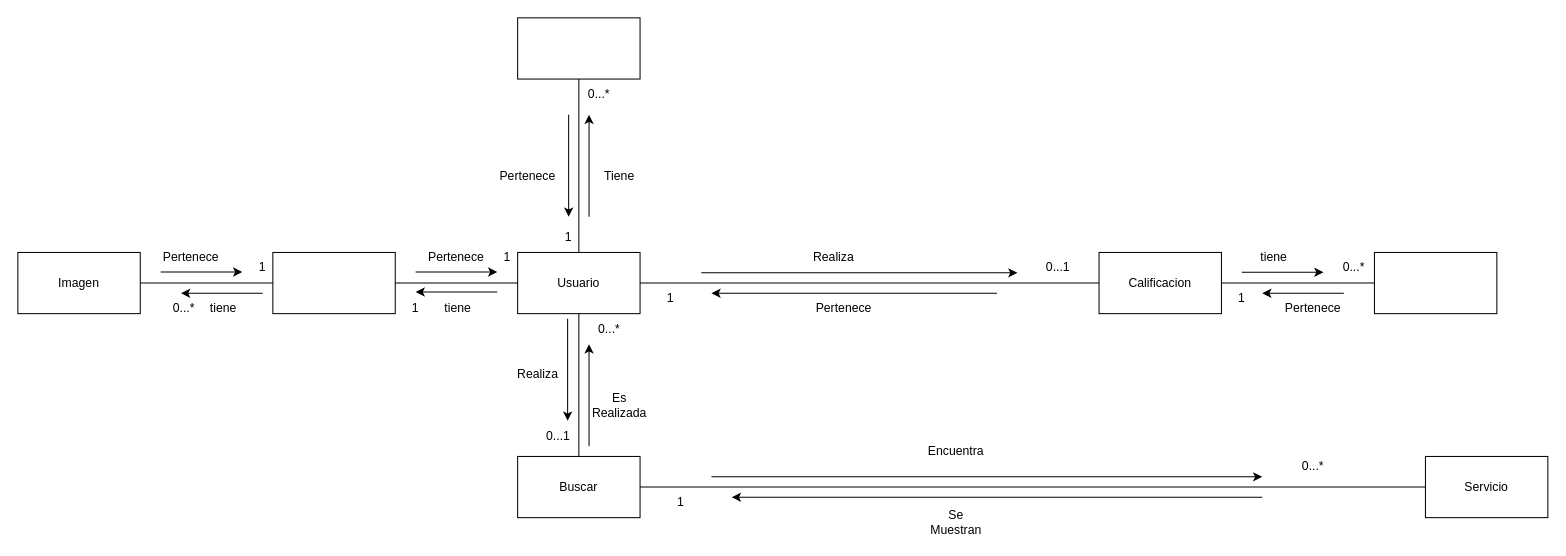
The diagram is 1566 pixels wide and 556 high, and some of its shapes have lost their labels. Each missing label, with the centre of its shape:
"Motocicleta" belongs at pixel 578 48.
"Perfil" belongs at pixel 333 282.
"Resena" belongs at pixel 1435 282.
